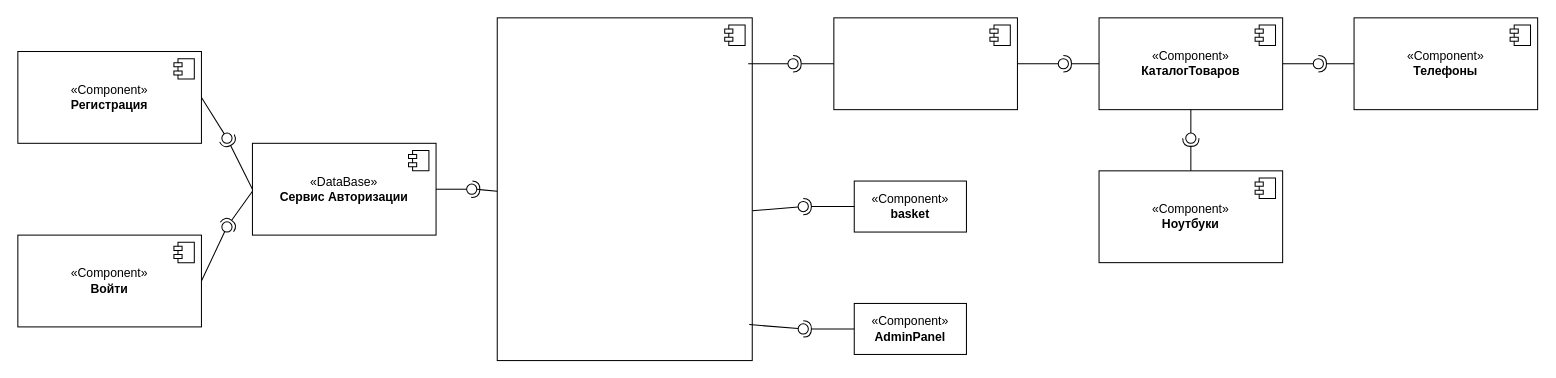
Some shapes in this 1556 by 378 pixel diagram are drawn without their labels. Here are the shapes that lost their labels. From the top down, the centre of each, then its label:
point (925, 63): «DataBase» Product
point (624, 189): Сайт "Магазин на 3 буквы"
